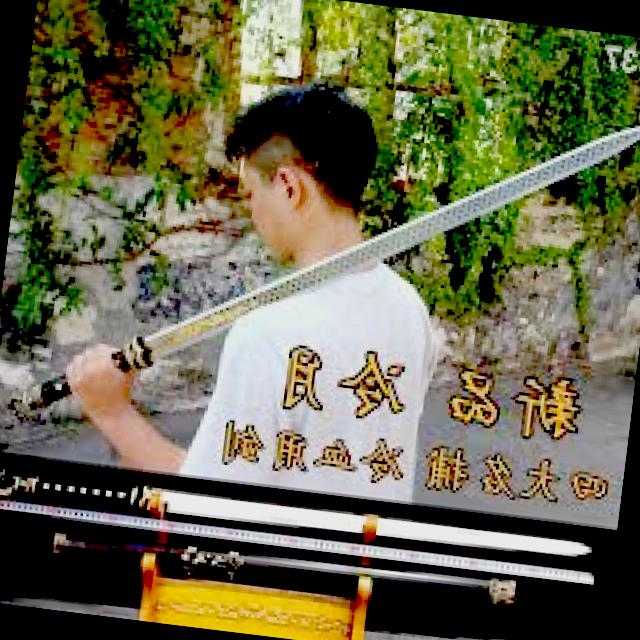long sword: (27, 47, 640, 478), (0, 467, 592, 566)
